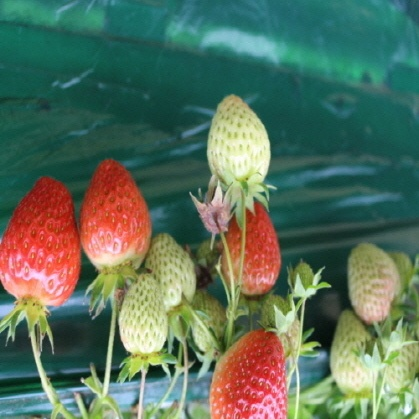Gray_Mold: (188, 179, 234, 237)
